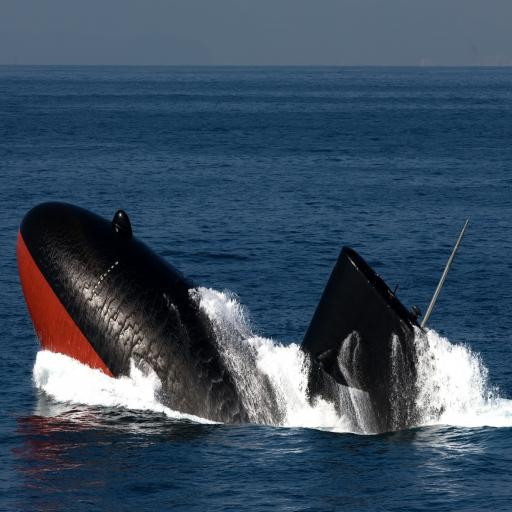submarine: (15, 197, 480, 437)
